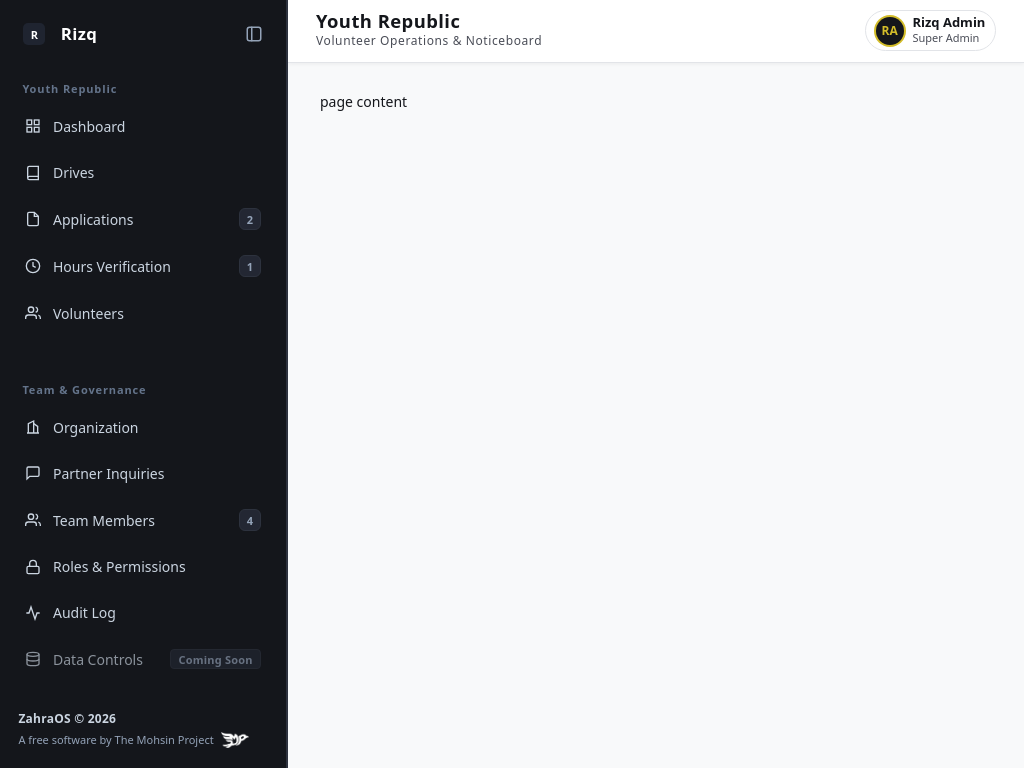
Test: AppShell › displays highest access role in the user pill and all roles in the dropdown card in Title Case
The width and height of the screenshot is (1024, 768).
Expected: the text "Rizq Admin" is shown, [912,15,985,30]
Expected: the text "Super Admin" is shown, [912,30,985,46]
Open dropdown card
Step 1. Click the button with aria-label "User Profile Menu" → (930, 31), box [865,10,996,51]
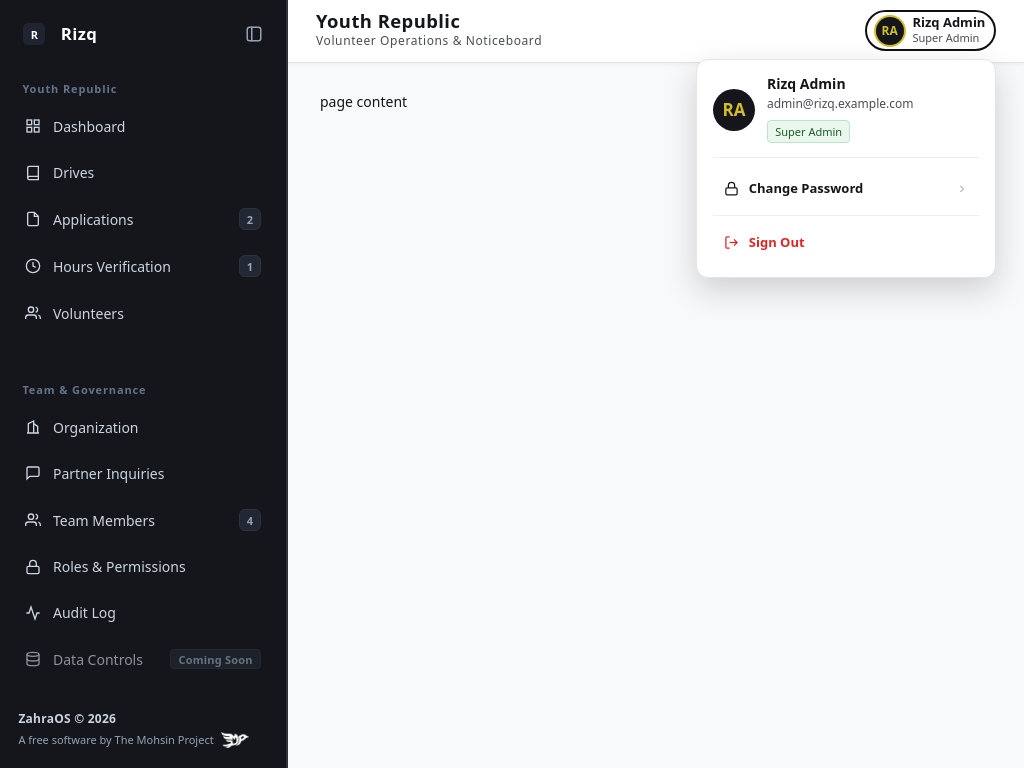
Expected: the text "admin@rizq.example.com" is shown, [767,95,914,113]
